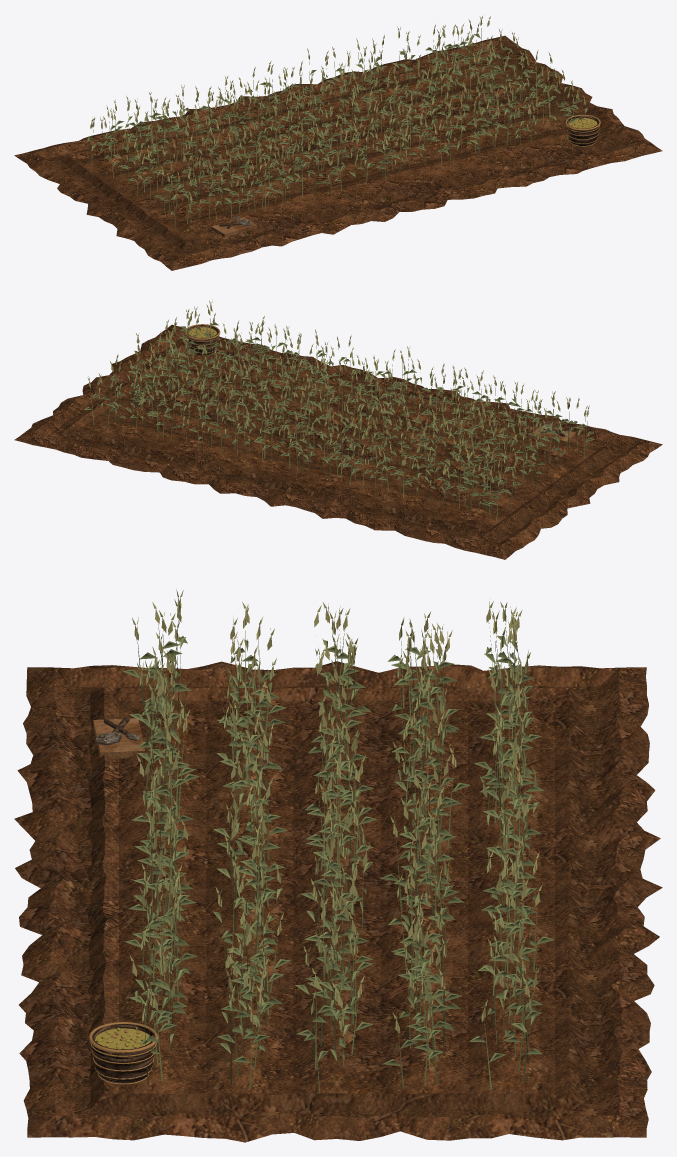
Rendered from field@2.glb.
3 views of the same model, one above another, from view 1: azimuth 30°, elevation 25°; view 2: azimuth 150°, elevation 25°; view 3: azimuth 270°, elevation 25° (orthographic). The views are drawn at different scales.
Visible parts, largest first — view 1: part_7, part_8, part_9, part_0, part_3, part_1; view 2: part_7, part_8, part_9, part_0; view 3: part_7, part_8, part_9, part_0, part_3, part_1, part_2.
Boxes of the visible parts, bbox=[...] form: part_7: bbox=[33, 38, 643, 257]; part_8: bbox=[87, 16, 587, 233]; part_9: bbox=[14, 35, 662, 270]; part_0: bbox=[566, 115, 599, 145]; part_3: bbox=[211, 217, 256, 237]; part_1: bbox=[565, 114, 600, 146]; part_7: bbox=[33, 327, 643, 546]; part_8: bbox=[84, 300, 594, 521]; part_9: bbox=[14, 324, 662, 559]; part_0: bbox=[186, 325, 218, 355]; part_7: bbox=[45, 664, 630, 1119]; part_8: bbox=[123, 590, 554, 1093]; part_9: bbox=[14, 661, 662, 1142]; part_0: bbox=[91, 1024, 155, 1084]; part_3: bbox=[93, 718, 145, 758]; part_1: bbox=[88, 1022, 158, 1084]; part_2: bbox=[94, 1027, 150, 1049].
Size of the model in its own units: 7.46 by 0.9352 by 4.25.
10 materials, 6 textured.
